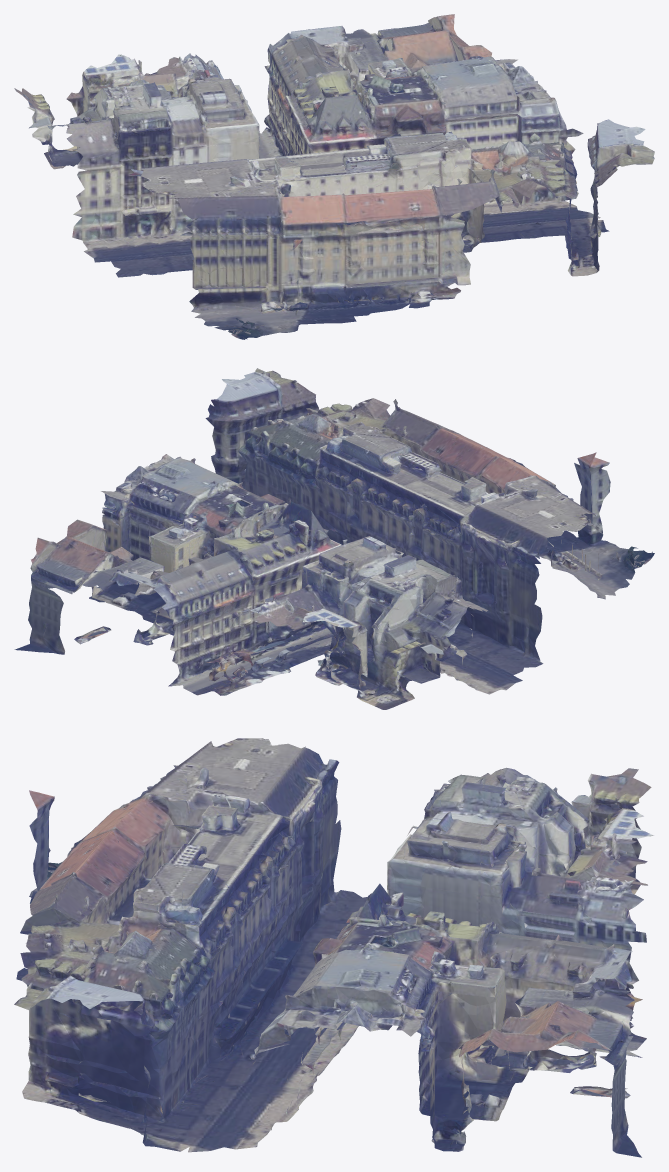
3 renders of one model, top to bottom at view 1: azimuth 30°, elevation 25°; view 2: azimuth 150°, elevation 25°; view 3: azimuth 270°, elevation 25°, orthographic. The views are drawn at different scales.
Bounding box in the file's own units: 108 × 30.46 × 108.
Materials: 1 (1 with a texture image).
